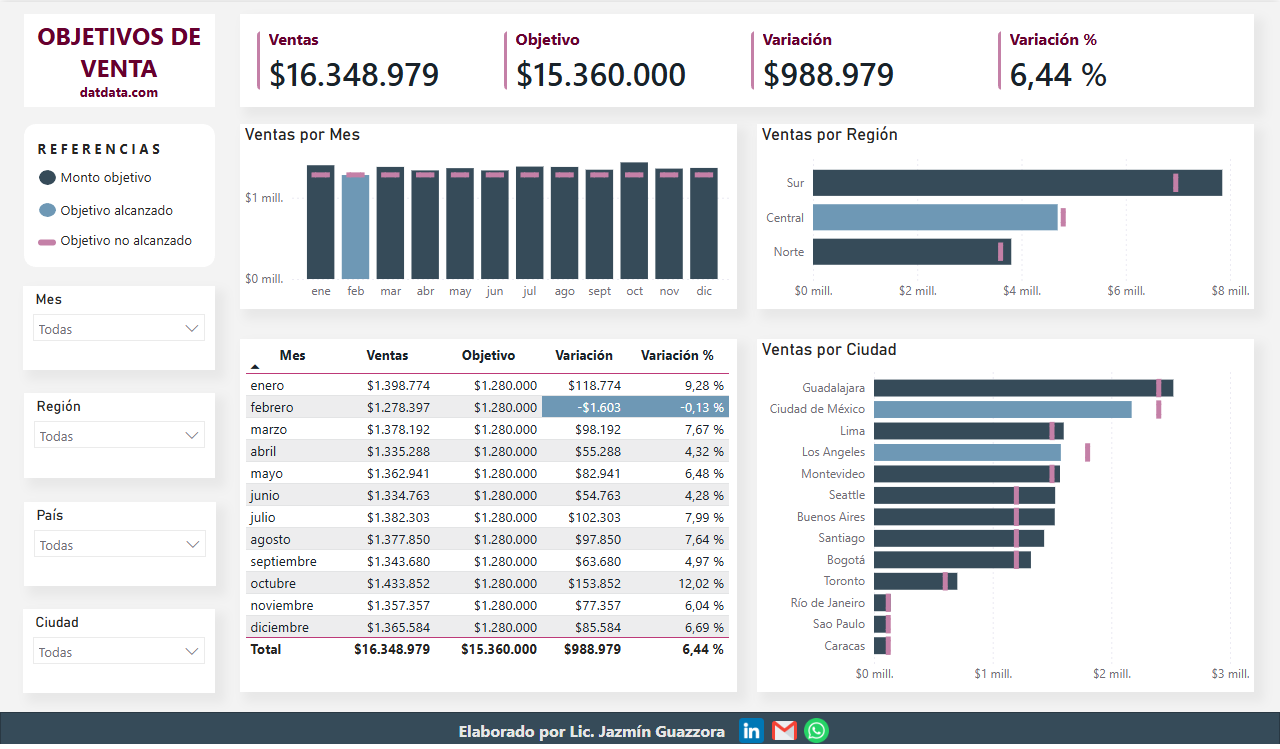

The dashboard page shown, as its layout file describes it:
{"tool":"powerbi","page":{"name":"Página 1","canvas":[1280,749],"ordinal":0},"visuals":[{"type":"tableEx","fields":{"Values":["calendario_2.Mes","medidas.01_ventas","medidas.02_objetivo","medidas.03_variacion_absoluta","medidas.04_variacion_reltiva"]},"box":[240,336.6,497,353],"z":0},{"type":"cardVisual","fields":{"Data":["medidas.01_ventas","medidas.02_objetivo","medidas.03_variacion_absoluta","medidas.04_variacion_reltiva"]},"box":[240,11.7,1014.1,93.7],"z":1000},{"type":"clusteredBarChart","title":"Ventas por Ciudad","fields":{"Category":["Tiendas.Ciudad"],"Y":["medidas.01_ventas"]},"box":[756.7,336.7,497,353.7],"z":2000},{"type":"clusteredBarChart","title":"Ventas por Región","fields":{"Category":["Tiendas.Región"],"Y":["medidas.01_ventas"]},"box":[756.7,121.8,497,185.4],"z":3000},{"type":"clusteredColumnChart","title":"Ventas por Mes","fields":{"Y":["medidas.01_ventas"],"Category":["calendario_2.MesCorto"]},"box":[239.7,121.8,497,185.7],"z":4000},{"type":"slicer","fields":{"Values":["calendario_2.Mes"]},"box":[23.4,283.9,191.9,84],"z":5000},{"type":"slicer","fields":{"Values":["Tiendas.Región"]},"box":[23.6,391.3,191.9,84.9],"z":6000},{"type":"slicer","fields":{"Values":["Tiendas.País"]},"box":[23.7,499.6,191.9,84],"z":7000},{"type":"slicer","fields":{"Values":["Tiendas.Ciudad"]},"box":[23.2,606.9,192,84],"z":8000},{"type":"shape","title":"Referencias","box":[23.7,121.8,191.6,143.4],"z":9000},{"type":"shape","box":[38,194,18,93],"z":9500},{"type":"textbox","box":[23.8,11.7,191.7,93.7],"z":10000},{"type":"shape","box":[39,168,17,15],"z":10000},{"type":"shape","box":[39,201,17,14],"z":11000},{"type":"textbox","box":[33.4,132.6,157.2,29.5],"z":12000},{"type":"textbox","box":[56,161.1,150.3,27.5],"z":13000},{"type":"shape","box":[0,710,1280,38],"z":13000},{"type":"group","id":"g1","title":"pie_pagina","box":[450,708,379,41],"z":14000},{"type":"textbox","title":"firma","box":[450,713,289,36],"z":14000,"group":"g1"},{"type":"textbox","box":[56,194,140,35],"z":15000},{"type":"textbox","box":[56,224,150,29],"z":15000},{"type":"image","box":[772.2,708,25.1,41],"z":15000,"group":"g1"},{"type":"image","box":[803.9,708,25.1,41],"z":16000,"group":"g1"},{"type":"image","box":[739,708.8,25.1,38.5],"z":17000,"group":"g1"}]}

Visuals, with their boxes in screenshot pixels (x1, y1, x2, y2), scaled from the page's 1280x749 canvas onto the 1280x749 screenshot:
tableEx - calendario_2.Mes x medidas.01_ventas: [x1=240, y1=337, x2=737, y2=690]
cardVisual - medidas.01_ventas x medidas.02_objetivo: [x1=240, y1=12, x2=1254, y2=105]
"Ventas por Ciudad" clusteredBarChart: [x1=757, y1=337, x2=1254, y2=690]
"Ventas por Región" clusteredBarChart: [x1=757, y1=122, x2=1254, y2=307]
"Ventas por Mes" clusteredColumnChart: [x1=240, y1=122, x2=737, y2=308]
slicer - calendario_2.Mes: [x1=23, y1=284, x2=215, y2=368]
slicer - Tiendas.Región: [x1=24, y1=391, x2=216, y2=476]
slicer - Tiendas.País: [x1=24, y1=500, x2=216, y2=584]
slicer - Tiendas.Ciudad: [x1=23, y1=607, x2=215, y2=691]
"Referencias" shape: [x1=24, y1=122, x2=215, y2=265]
shape: [x1=38, y1=194, x2=56, y2=287]
textbox: [x1=24, y1=12, x2=216, y2=105]
shape: [x1=39, y1=168, x2=56, y2=183]
shape: [x1=39, y1=201, x2=56, y2=215]
textbox: [x1=33, y1=133, x2=191, y2=162]
textbox: [x1=56, y1=161, x2=206, y2=189]
shape: [x1=0, y1=710, x2=1279, y2=748]
"pie_pagina" group: [x1=450, y1=708, x2=829, y2=748]
"firma" textbox: [x1=450, y1=713, x2=739, y2=748]
textbox: [x1=56, y1=194, x2=196, y2=229]
textbox: [x1=56, y1=224, x2=206, y2=253]
image: [x1=772, y1=708, x2=797, y2=748]
image: [x1=804, y1=708, x2=829, y2=748]
image: [x1=739, y1=709, x2=764, y2=747]
